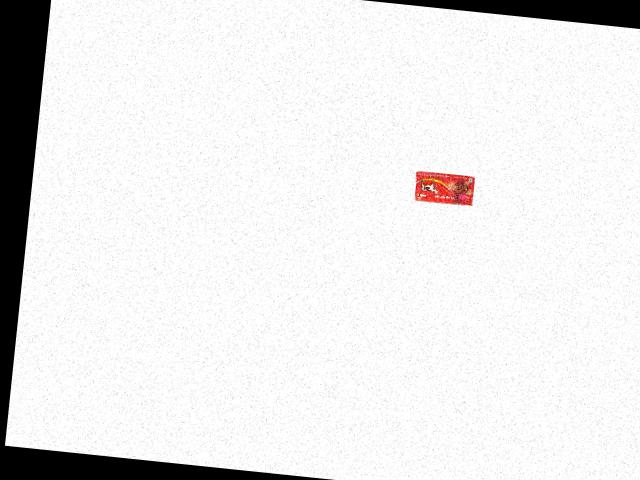chocolate: (410, 167, 476, 206)
